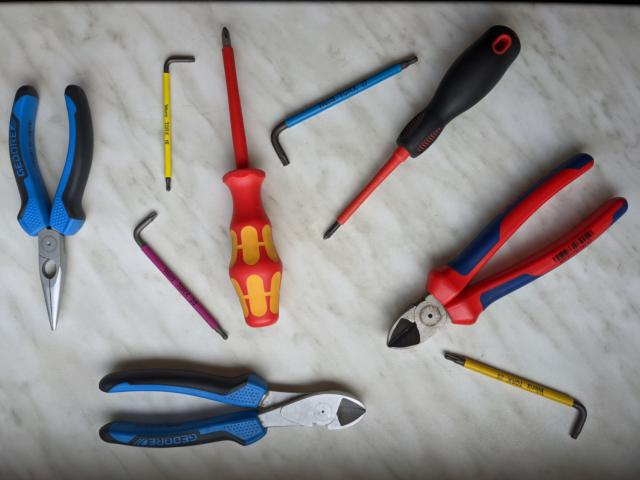Inbusschlüssel: (267, 50, 422, 168), (440, 349, 589, 442), (131, 212, 231, 344), (159, 52, 199, 194)
Schraubendreher: (319, 21, 523, 243), (218, 23, 286, 330)
Seitenschneider: (380, 148, 633, 353), (94, 364, 370, 453)
Zange: (4, 81, 97, 334)
